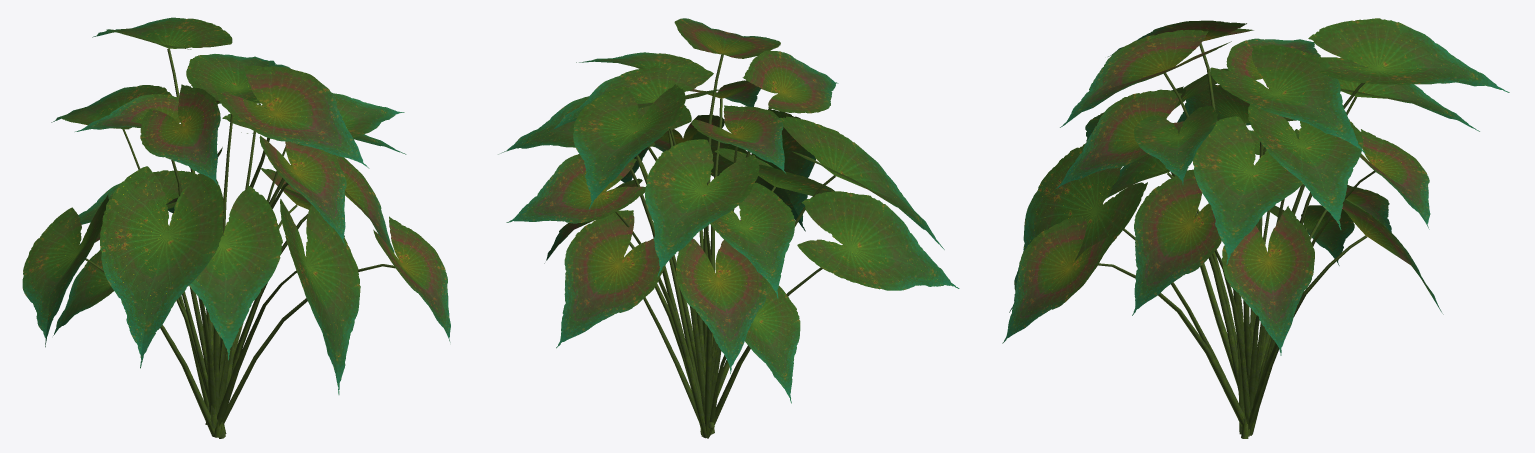
The model's file is PLant_9_L1.fbx.
The picture shows the model from 3 angles, left to right: view 1: azimuth 30°, elevation 25°; view 2: azimuth 150°, elevation 25°; view 3: azimuth 270°, elevation 25°; orthographic projection. The views are drawn at different scales.
Parts seen in each view (by area): view 1: polySurface4; view 2: polySurface4; view 3: polySurface4.
Boxes of the visible parts, <box> form: polySurface4: <box>22,17,450,438</box>; polySurface4: <box>498,18,959,438</box>; polySurface4: <box>1002,18,1509,438</box>.
Bounding box in the file's own units: 225 × 201 × 233.
